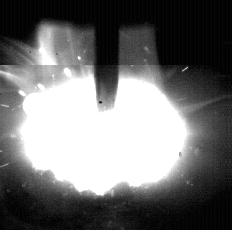arame: (96, 0, 120, 113)
poca: (19, 0, 189, 230)
